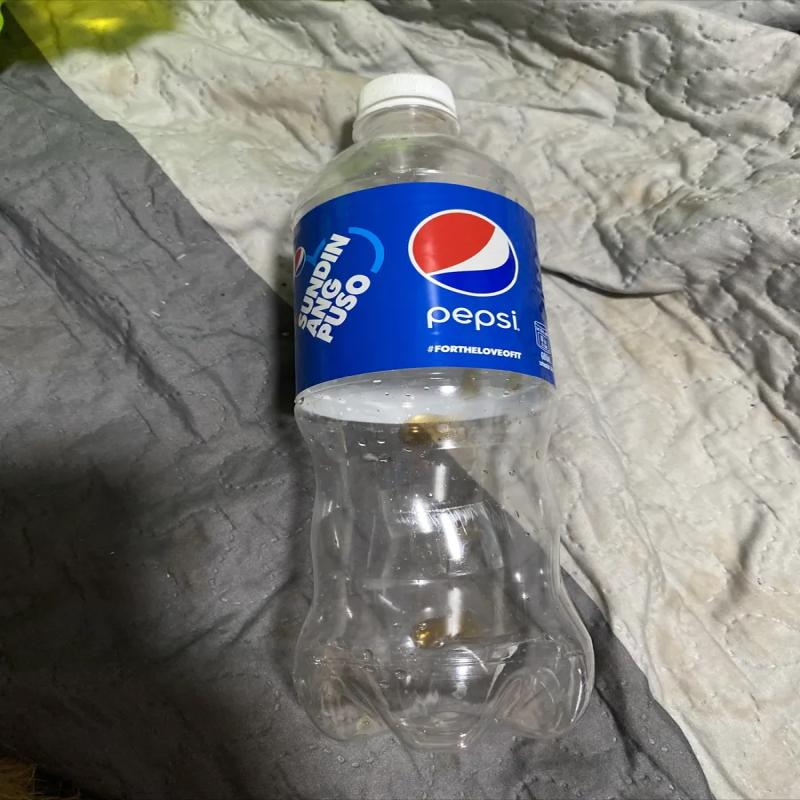botella: (283, 65, 592, 743)
